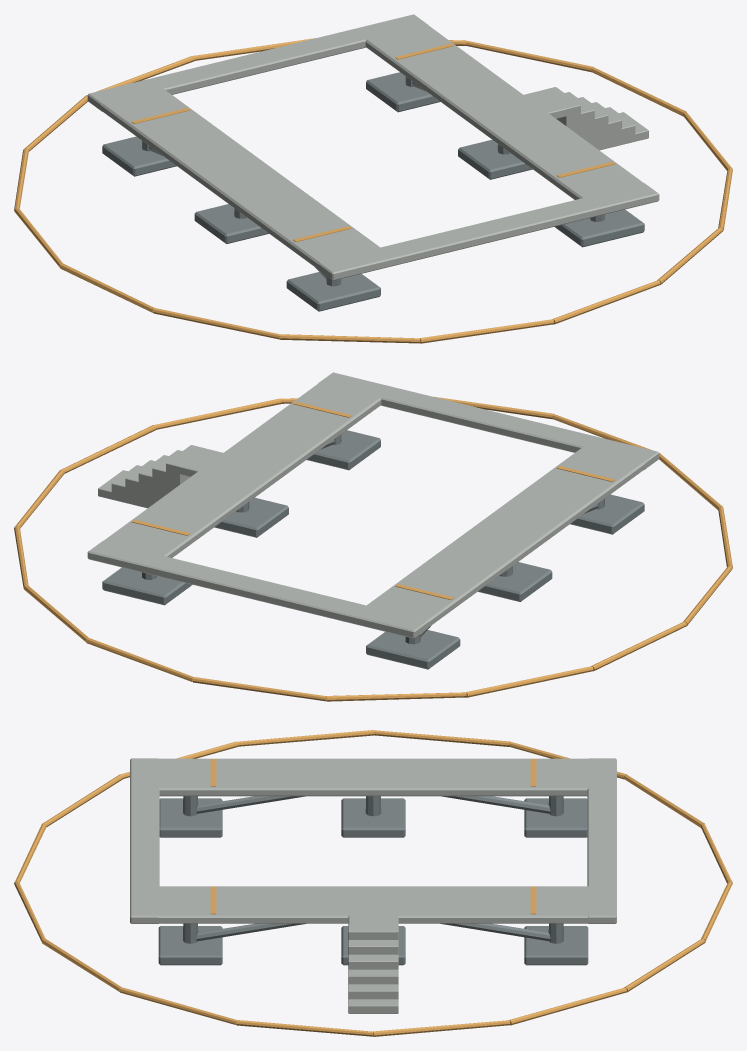
3 views of the same model, one above another, from view 1: azimuth 30°, elevation 25°; view 2: azimuth 150°, elevation 25°; view 3: azimuth 270°, elevation 25° (orthographic).
Parts seen in each view (by area): view 1: RE-074 Open VTOL ferry landing cradle batched; view 2: RE-074 Open VTOL ferry landing cradle batched; view 3: RE-074 Open VTOL ferry landing cradle batched.
Part boxes in pixels (x1,y1,x2,y2): RE-074 Open VTOL ferry landing cradle batched: [14, 14, 732, 343]; RE-074 Open VTOL ferry landing cradle batched: [14, 372, 732, 701]; RE-074 Open VTOL ferry landing cradle batched: [14, 730, 732, 1036].
Bounding box in the file's own units: 15.73 × 1.22 × 15.73.
